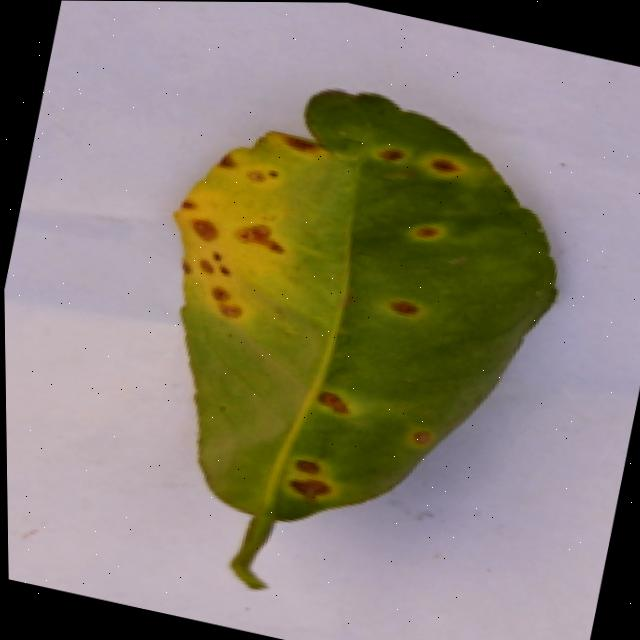canker: (178, 95, 555, 587), (147, 103, 327, 362), (359, 109, 484, 194), (268, 436, 356, 523), (300, 369, 373, 427), (396, 195, 453, 257), (371, 275, 432, 330), (403, 405, 441, 466)
